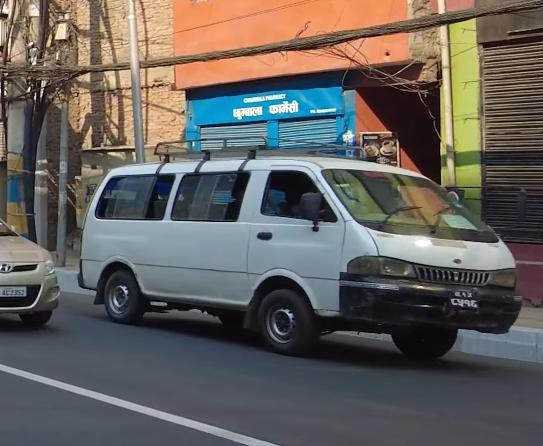car: (0, 207, 64, 338)
van: (68, 141, 536, 365)
